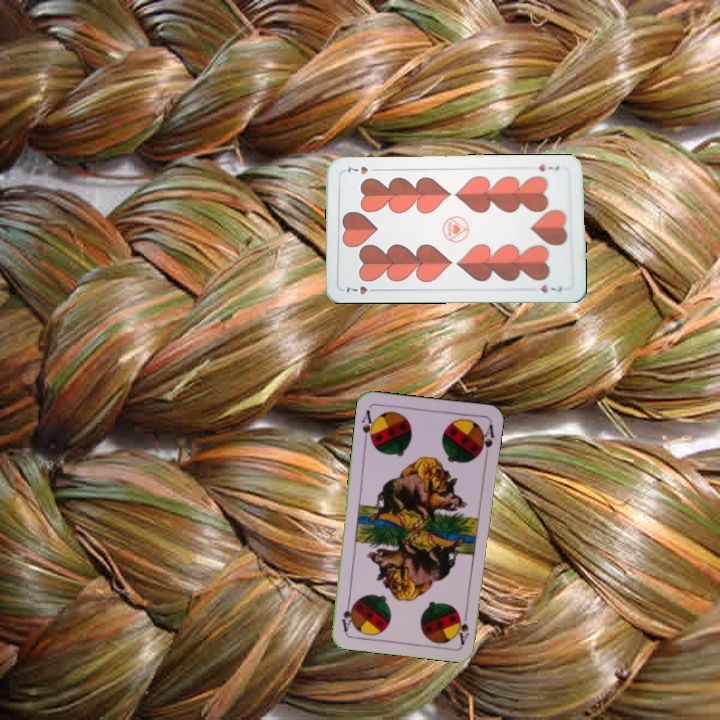H7: (343, 282, 381, 297), (534, 160, 562, 174)
SA: (357, 406, 378, 446), (454, 606, 472, 647)
